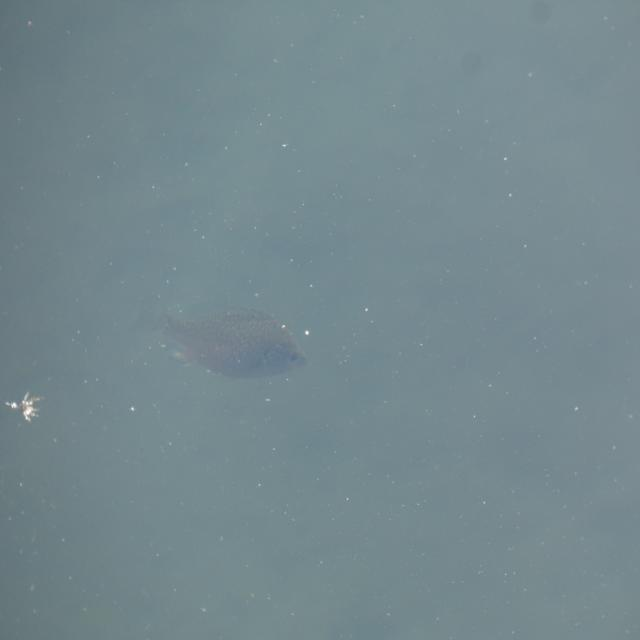Gunes Levregi: (151, 302, 307, 380)
